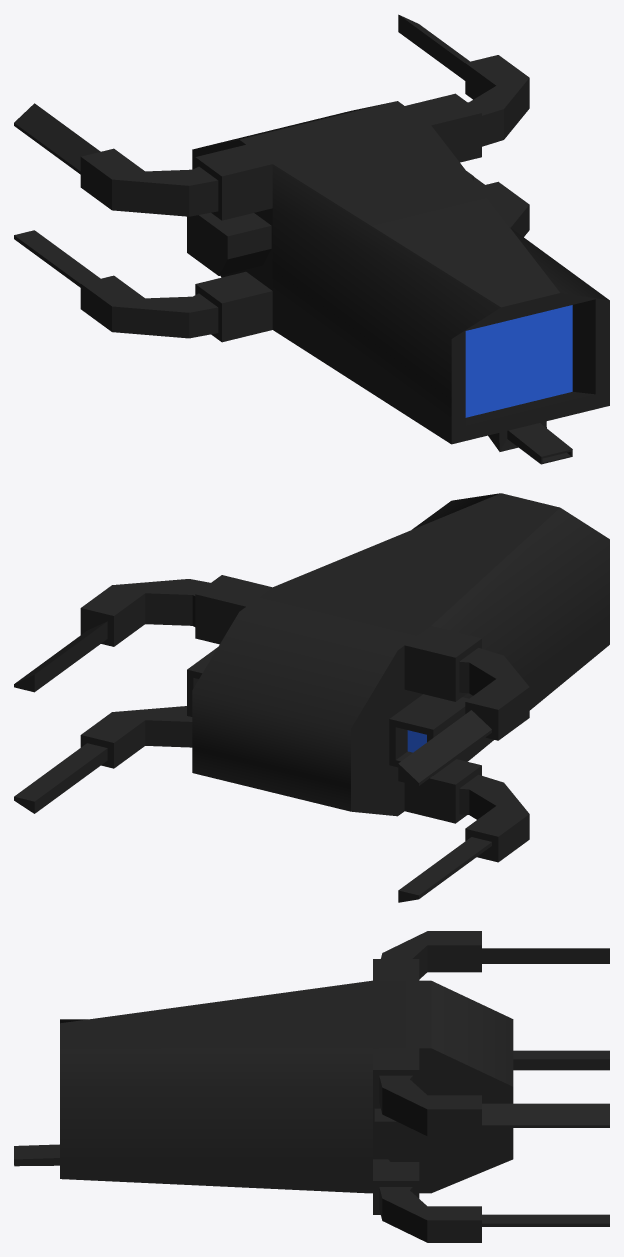
File: Drone.FBX
The picture shows the model from 3 angles, top to bottom: view 1: azimuth 30°, elevation 25°; view 2: azimuth 150°, elevation 25°; view 3: azimuth 270°, elevation 25°; orthographic projection. The views are drawn at different scales.
Visible parts, largest first — view 1: Drone; view 2: Drone; view 3: Drone.
Boxes of the visible parts, x1,y1,x2,y2 form: Drone: (14, 14, 609, 464); Drone: (14, 493, 609, 902); Drone: (14, 931, 609, 1242).
Bounding box in the file's own units: 2.63 × 1.06 × 3.72.
